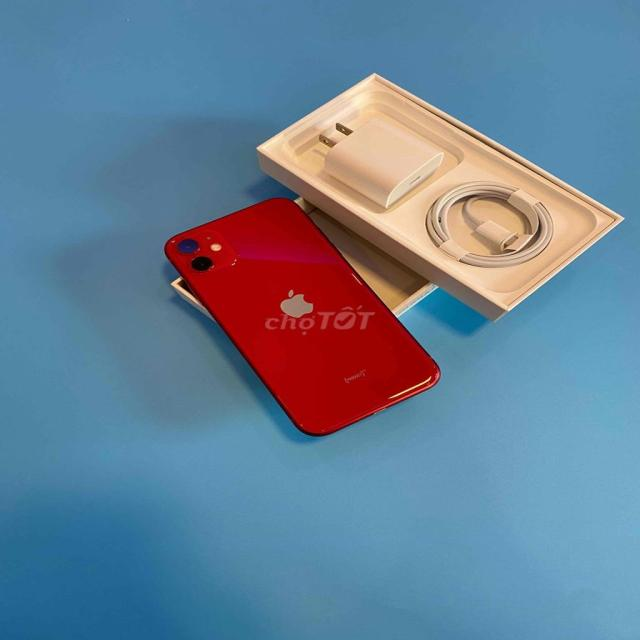gen_11: (144, 196, 457, 450)
